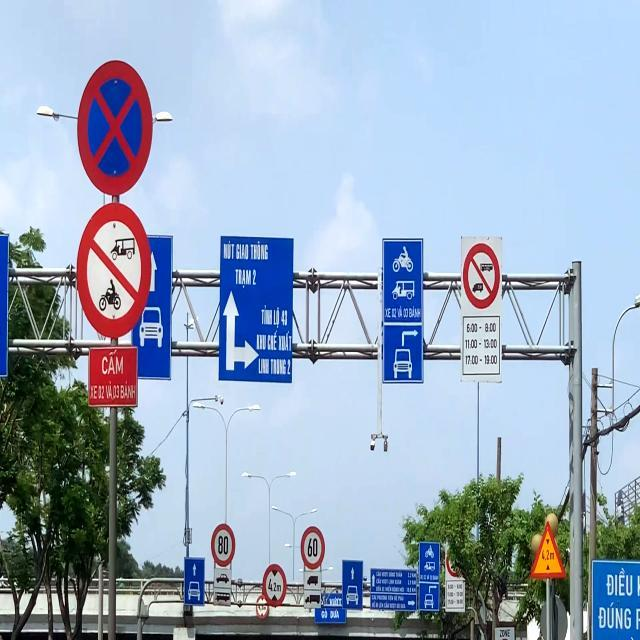P-117: (261, 563, 287, 608)
P-130: (76, 59, 152, 197)
W-239b: (528, 525, 566, 580)
